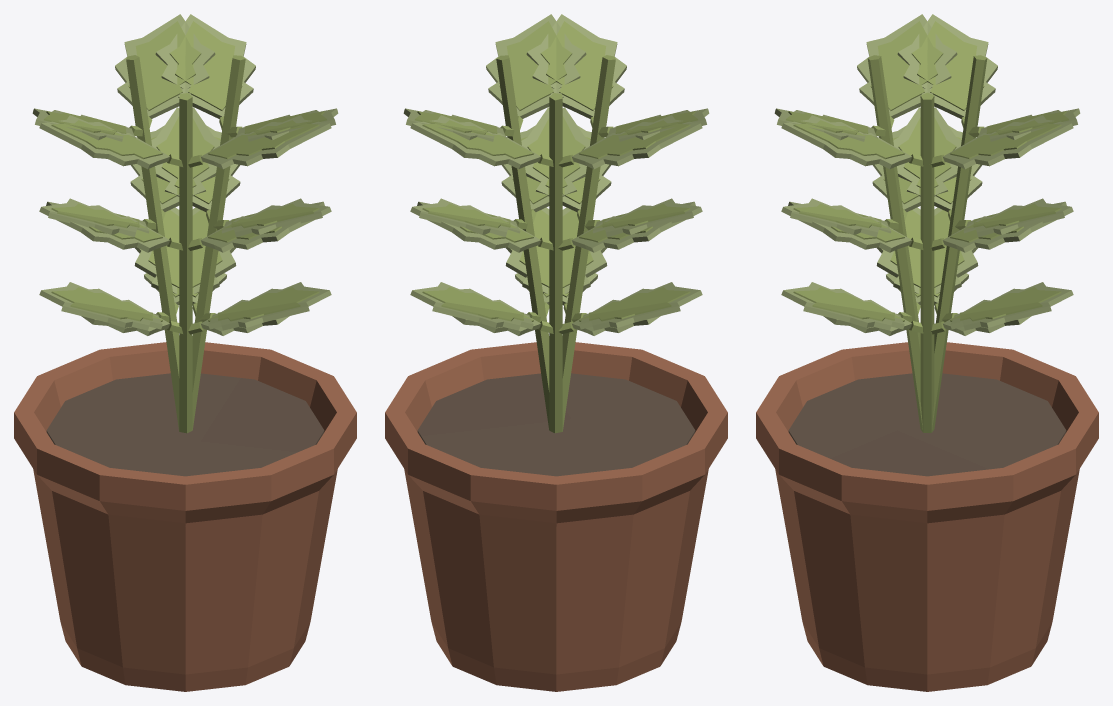
The model's file is coleus.glb.
The picture shows the model from 3 angles, left to right: view 1: azimuth 30°, elevation 25°; view 2: azimuth 150°, elevation 25°; view 3: azimuth 270°, elevation 25°; orthographic projection.
Visible parts, largest first — view 1: coleus/review-terra-vessel, coleus/review-rooted-soil, coleus/petiole-039, coleus/petiole-020, coleus/petiole-001, coleus/variegated-leaf-center-019, coleus/variegated-leaf-center-035, coleus/leaf-034, coleus/leaf-018, coleus/leaf-053, coleus/leaf-056, coleus/variegated-leaf-center-054 (+27 smaller); view 2: coleus/review-terra-vessel, coleus/review-rooted-soil, coleus/petiole-020, coleus/petiole-039, coleus/petiole-001, coleus/variegated-leaf-center-016, coleus/variegated-leaf-center-057, coleus/leaf-056, coleus/leaf-015, coleus/leaf-034, coleus/leaf-037, coleus/variegated-leaf-center-035 (+27 smaller); view 3: coleus/review-terra-vessel, coleus/review-rooted-soil, coleus/petiole-001, coleus/petiole-039, coleus/petiole-020, coleus/variegated-leaf-center-038, coleus/variegated-leaf-center-054, coleus/leaf-037, coleus/leaf-053, coleus/leaf-015, coleus/leaf-018, coleus/variegated-leaf-center-016 (+27 smaller).
Boxes of the visible parts, x1,y1,x2,y2 form: coleus/review-terra-vessel: (14, 342, 356, 691); coleus/review-rooted-soil: (46, 373, 324, 476); coleus/petiole-039: (179, 93, 192, 433); coleus/petiole-020: (126, 55, 179, 431); coleus/petiole-001: (192, 55, 245, 430); coleus/variegated-leaf-center-019: (169, 21, 242, 110); coleus/variegated-leaf-center-035: (128, 21, 201, 110); coleus/leaf-034: (115, 14, 215, 118); coleus/leaf-018: (155, 14, 255, 118); coleus/leaf-053: (39, 115, 169, 169); coleus/leaf-056: (201, 115, 331, 169); coleus/variegated-leaf-center-054: (51, 120, 162, 159); coleus/review-terra-vessel: (385, 342, 727, 691); coleus/review-rooted-soil: (417, 373, 695, 476); coleus/petiole-020: (549, 93, 562, 433); coleus/petiole-039: (562, 55, 615, 431); coleus/petiole-001: (496, 55, 549, 430); coleus/variegated-leaf-center-016: (499, 21, 572, 110); coleus/variegated-leaf-center-057: (540, 21, 613, 110); coleus/leaf-056: (526, 14, 626, 118); coleus/leaf-015: (486, 14, 586, 118); coleus/leaf-034: (410, 115, 540, 169); coleus/leaf-037: (572, 115, 702, 169); coleus/variegated-leaf-center-035: (422, 120, 533, 159); coleus/review-terra-vessel: (756, 342, 1098, 691); coleus/review-rooted-soil: (788, 373, 1066, 476); coleus/petiole-001: (920, 92, 934, 432); coleus/petiole-039: (867, 55, 922, 431); coleus/petiole-020: (932, 55, 987, 431); coleus/variegated-leaf-center-038: (911, 21, 984, 110); coleus/variegated-leaf-center-054: (870, 21, 943, 110); coleus/leaf-037: (897, 14, 997, 118); coleus/leaf-053: (857, 14, 957, 118); coleus/leaf-015: (781, 115, 911, 169); coleus/leaf-018: (943, 115, 1073, 169); coleus/variegated-leaf-center-016: (793, 120, 904, 159).
Size of the model in its own units: 0.19 by 0.3496 by 0.19.
4 materials, 4 textured.
